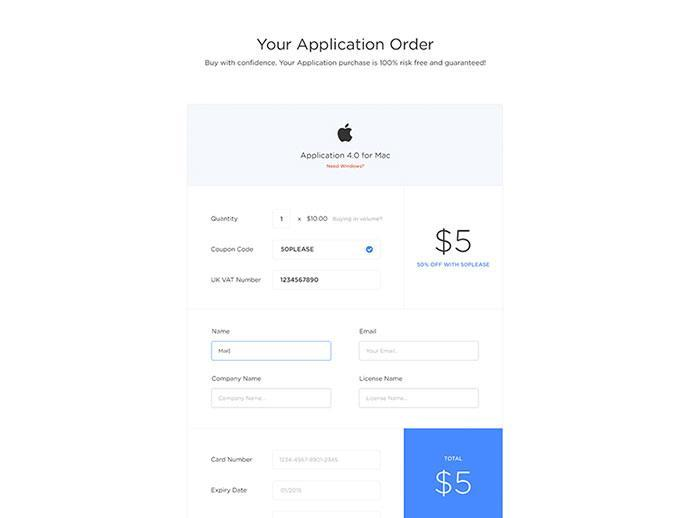input: (359, 388, 480, 409), (360, 341, 479, 362), (212, 342, 333, 362), (212, 389, 332, 409), (275, 240, 380, 262), (272, 449, 381, 470), (274, 271, 382, 292), (273, 480, 380, 500), (274, 209, 292, 228)
label: (252, 37, 438, 54), (299, 149, 392, 161), (211, 244, 255, 257), (210, 375, 264, 384), (209, 486, 250, 497), (359, 375, 404, 385), (211, 277, 264, 284), (212, 456, 256, 464), (212, 215, 241, 225), (358, 328, 380, 337), (212, 329, 232, 337)
